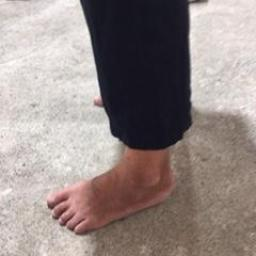Lateral View -Left Foot-: (42, 149, 180, 239)
